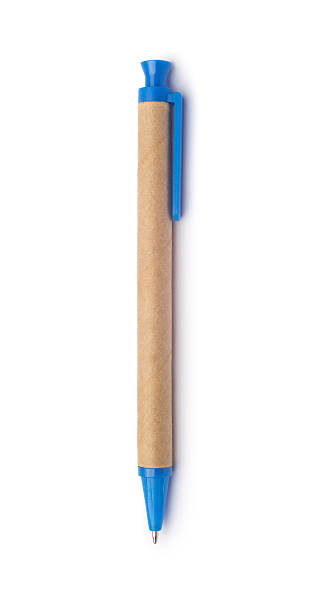pen: (115, 49, 217, 557)
